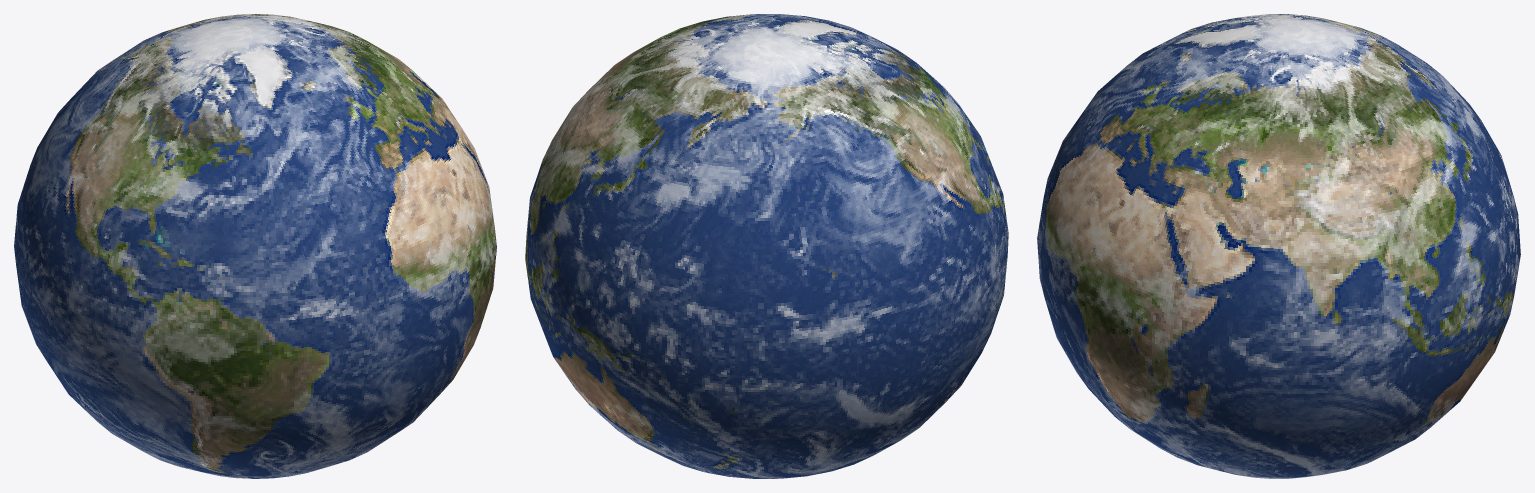
Rendered from modelo4.glb.
3 renders of one model, left to right at view 1: azimuth 30°, elevation 25°; view 2: azimuth 150°, elevation 25°; view 3: azimuth 270°, elevation 25°, orthographic.
Parts seen in each view (by area): view 1: earth; view 2: earth; view 3: earth.
Boxes of the visible parts, <box> form: earth: <box>14,14,496,478</box>; earth: <box>525,14,1008,478</box>; earth: <box>1037,14,1520,478</box>.
Bounding box in the file's own units: 12.77 × 12.18 × 12.76.
Materials: 1 (1 with a texture image).
